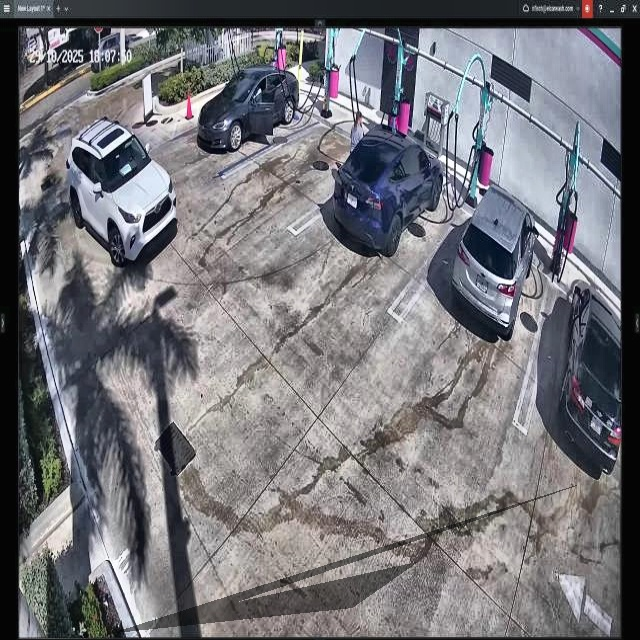Car: (64, 122, 176, 266), (333, 124, 439, 259), (456, 180, 534, 336), (207, 73, 295, 164)
